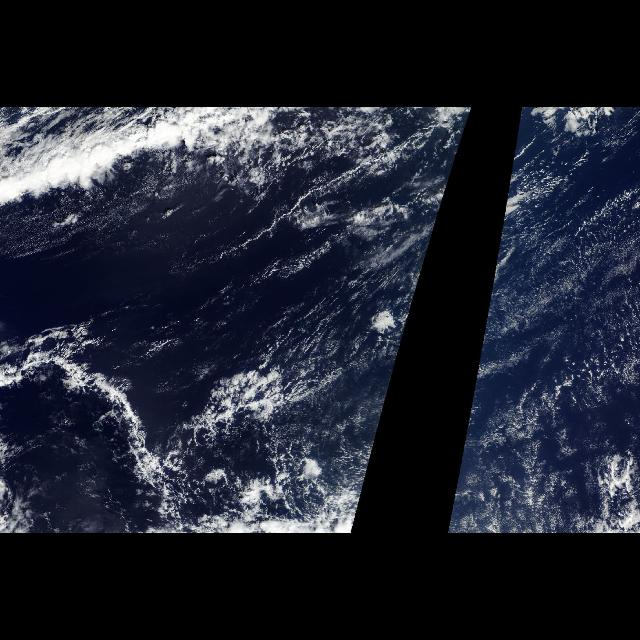Fish: (0, 320, 172, 512)
Sugar: (504, 182, 638, 474), (264, 277, 372, 463)
